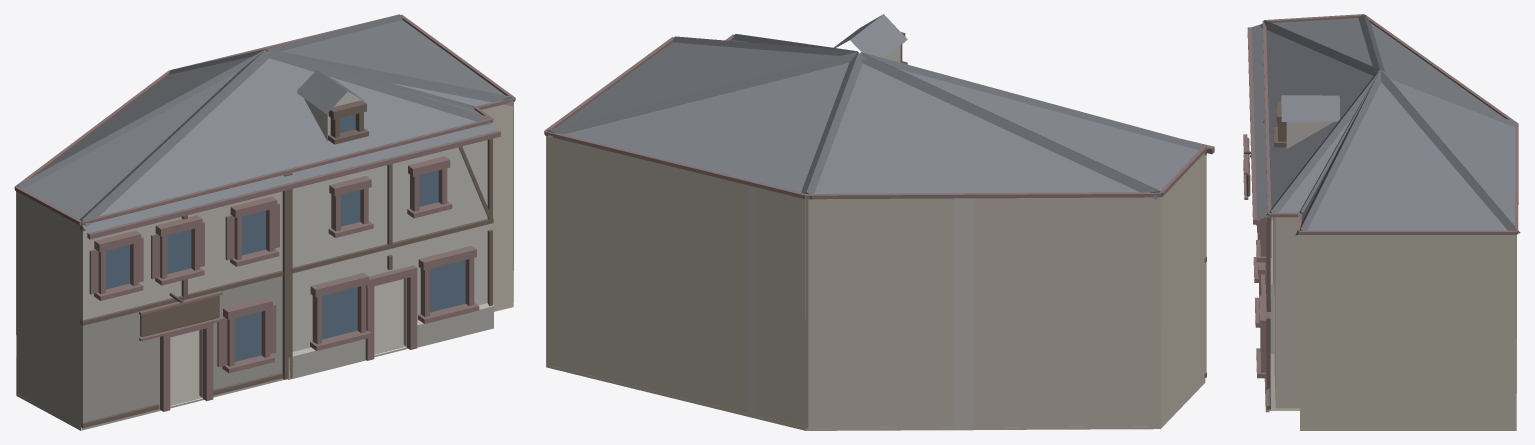
The model's file is b021_closed.glb.
3 views of the same model, side by side, from view 1: azimuth 30°, elevation 25°; view 2: azimuth 150°, elevation 25°; view 3: azimuth 270°, elevation 25° (orthographic). The views are drawn at different scales.
Parts seen in each view (by area): view 1: B021_visible; view 2: B021_visible; view 3: B021_visible.
Boxes of the visible parts, left/top/right/bottom form: B021_visible: left=14, top=14, right=515, bottom=430; B021_visible: left=544, top=14, right=1214, bottom=430; B021_visible: left=1243, top=14, right=1520, bottom=430.
Size of the model in its own units: 15.31 by 8.67 by 8.24.
